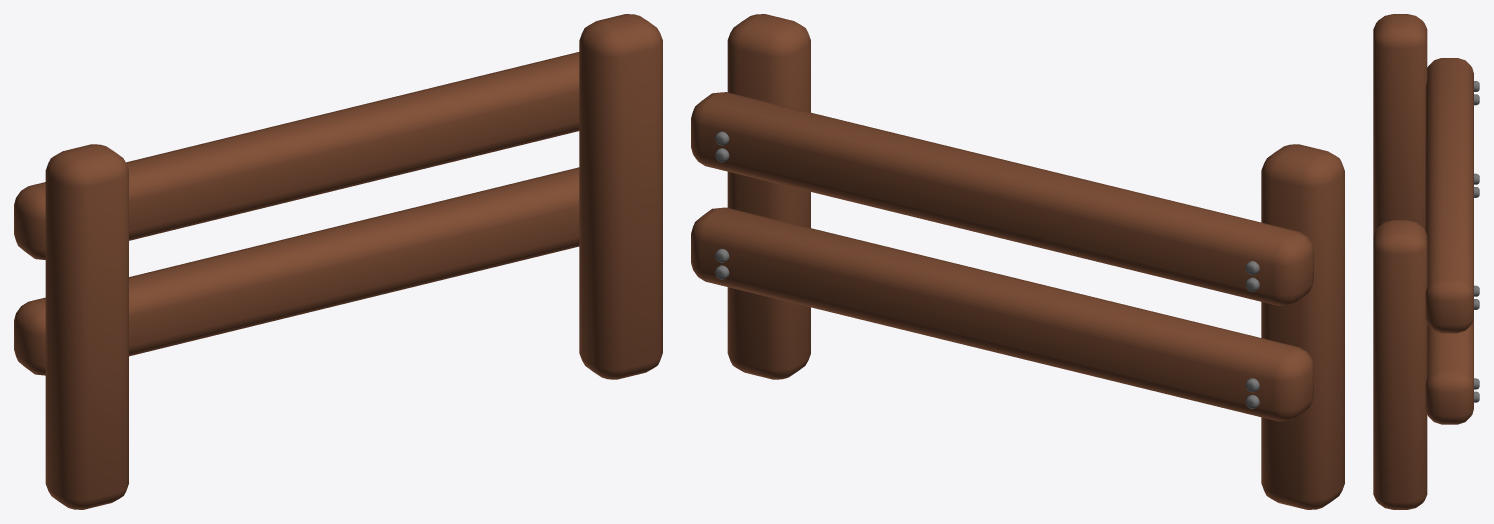
Rendered from fence2.fbx.
3 views of the same model, side by side, from view 1: azimuth 30°, elevation 25°; view 2: azimuth 150°, elevation 25°; view 3: azimuth 270°, elevation 25° (orthographic). The views are drawn at different scales.
Visible parts, largest first — view 1: Cube.010; view 2: Cube.010; view 3: Cube.010.
Part boxes in pixels (bbox=[...]): Cube.010: bbox=[14, 14, 662, 509]; Cube.010: bbox=[691, 14, 1344, 509]; Cube.010: bbox=[1373, 14, 1479, 509].
Bounding box in the file's own units: 4.88 × 0.9324 × 2.67.
